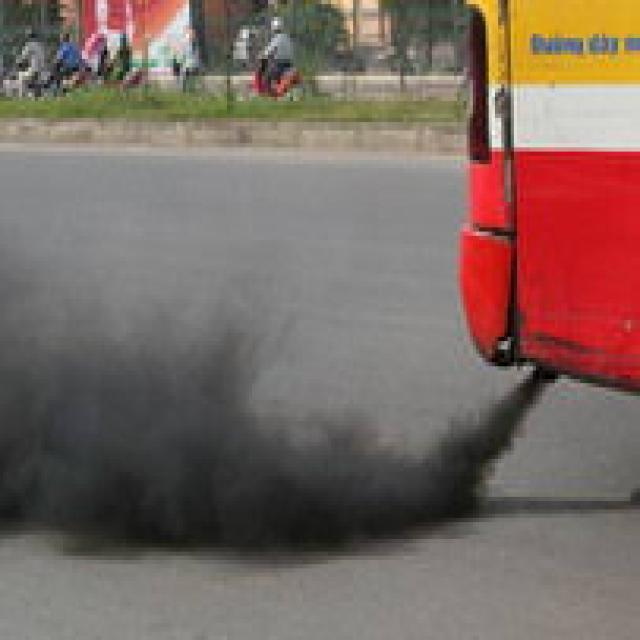Smoke: (0, 226, 547, 570)
